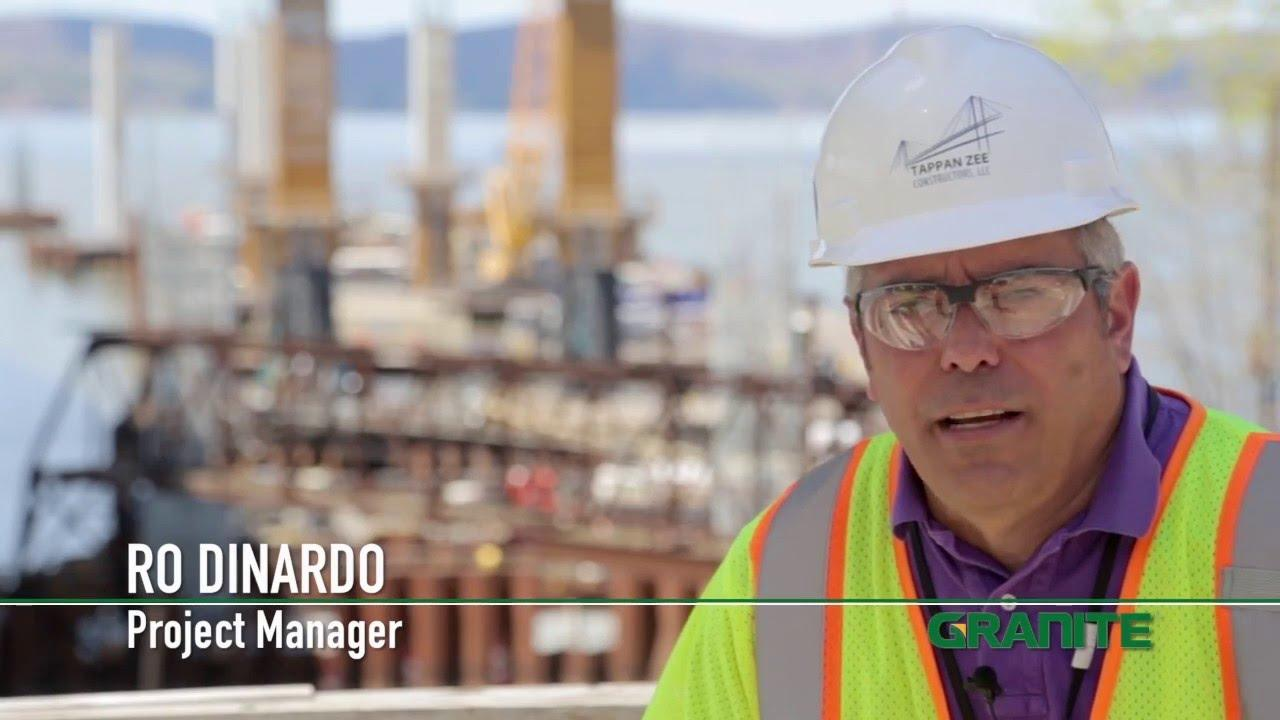helmet: (808, 29, 1142, 268)
